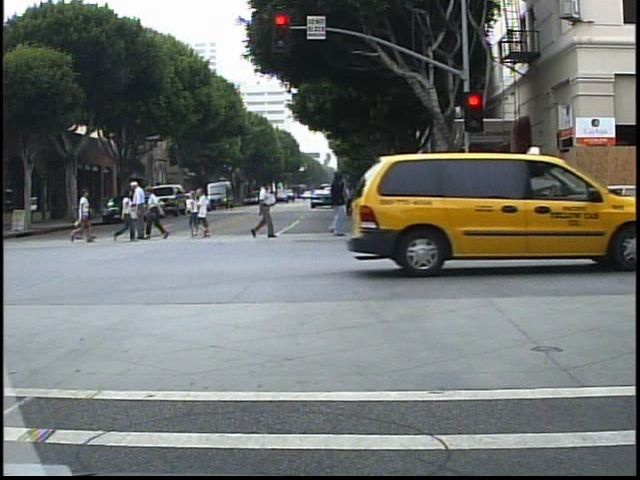person: (248, 181, 282, 242), (322, 166, 348, 239), (68, 187, 99, 246), (146, 184, 171, 242), (132, 176, 151, 244), (115, 187, 134, 245), (84, 188, 91, 243)
